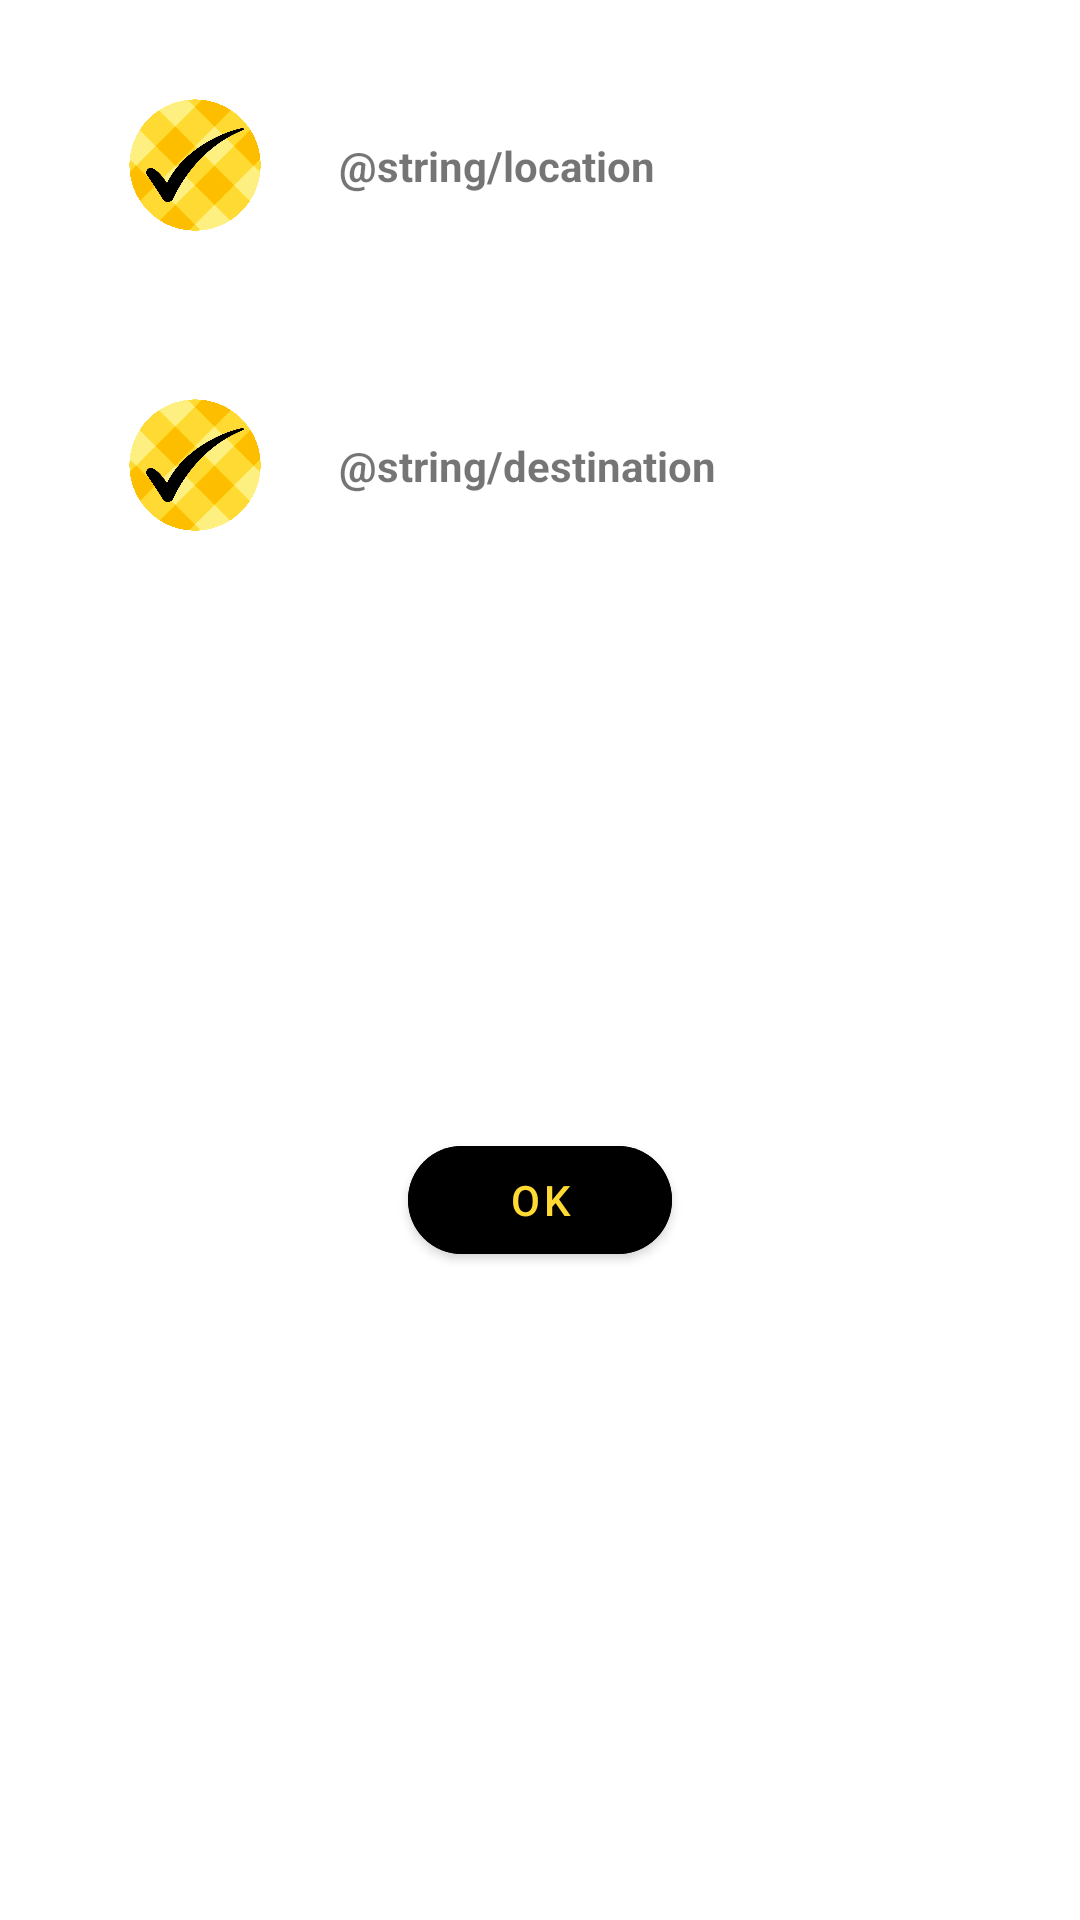

Point at icon controls on the screen. Image size 1080px×1920px, points as [x,y].
tick: [195,165], [195,465]
